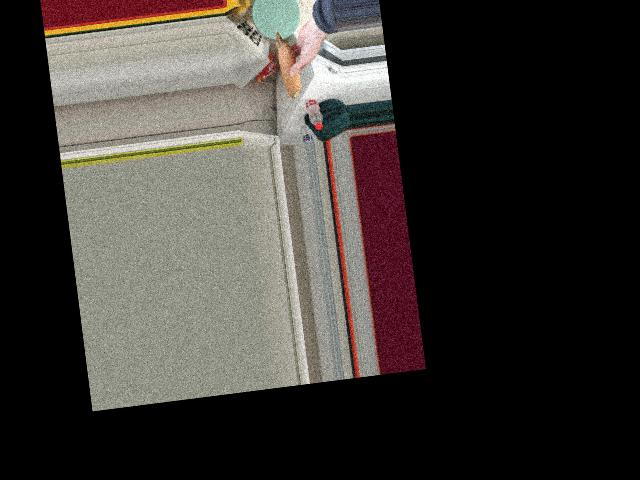sweet_potato: (272, 25, 300, 102)
